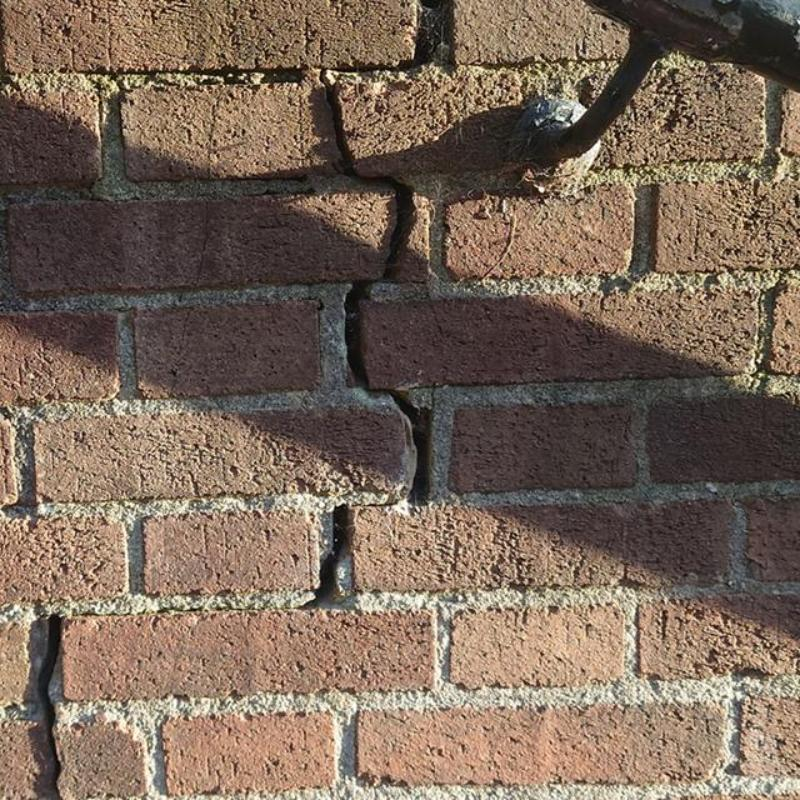crack: (329, 89, 412, 275), (388, 388, 435, 501), (319, 46, 425, 89), (38, 616, 61, 799), (317, 505, 352, 600), (344, 281, 373, 390), (352, 500, 400, 508), (254, 190, 314, 196), (259, 175, 306, 181)
